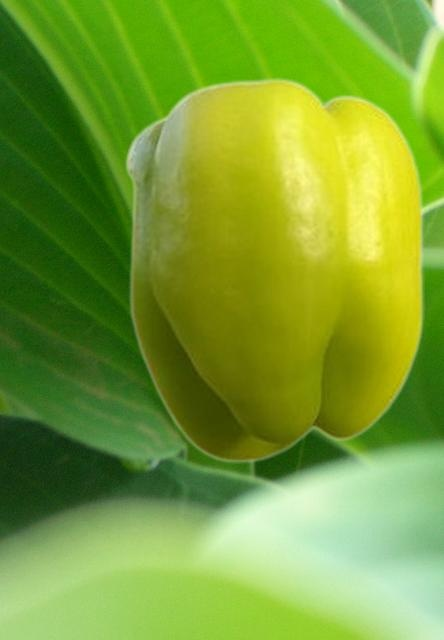bell_pepper: (124, 76, 423, 462)
